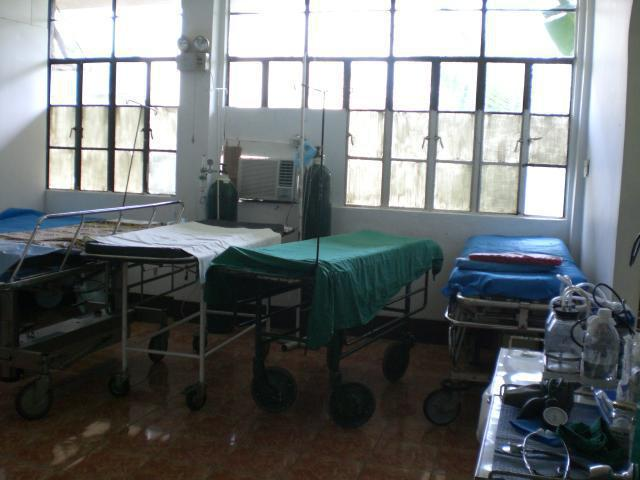Cama: (225, 233, 435, 424), (9, 200, 184, 419), (100, 222, 285, 415), (454, 229, 600, 357)
Ventana: (392, 3, 479, 212), (484, 7, 568, 219), (111, 9, 173, 195), (51, 2, 108, 188)
